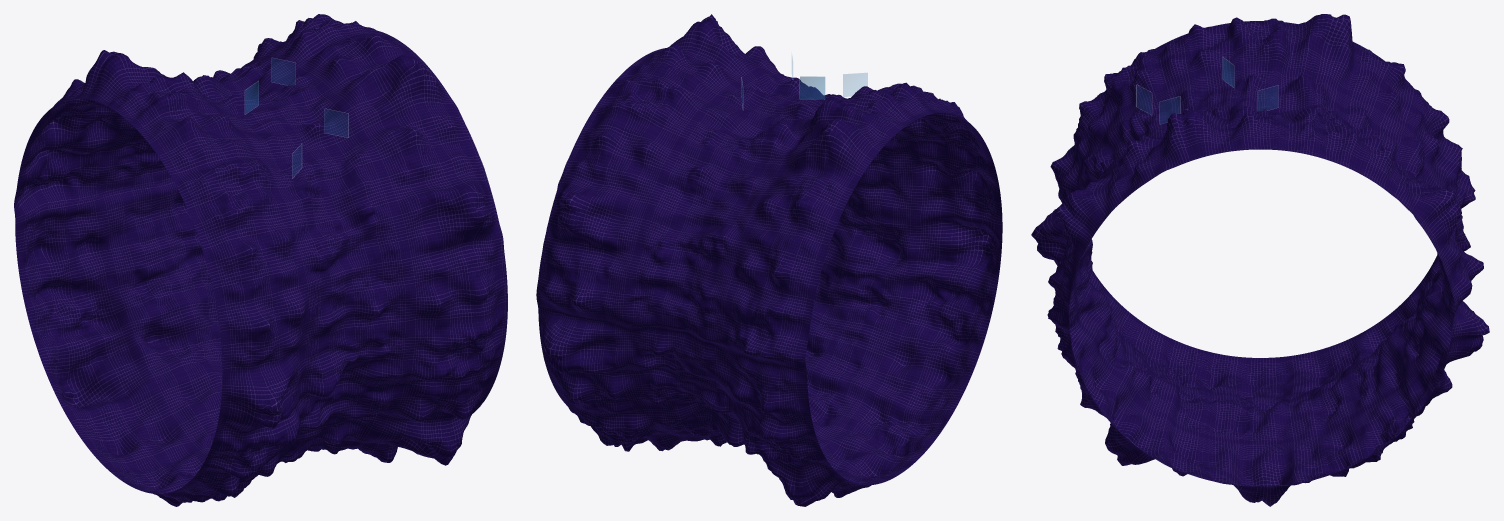
File: mountains emission (2).glb
The picture shows the model from 3 angles, left to right: view 1: azimuth 30°, elevation 25°; view 2: azimuth 150°, elevation 25°; view 3: azimuth 270°, elevation 25°; orthographic projection. The views are drawn at different scales.
Visible parts, largest first — view 1: mountains, pl 3, pl 2; view 2: mountains, pl; view 3: mountains.
Part boxes in pixels (x1,y1,x2,y2): mountains: (14,14,507,506); pl 3: (324,109,348,137); pl 2: (271,58,295,85); mountains: (536,14,1002,506); pl: (800,76,824,99); mountains: (1031,14,1489,506).
Bounding box in the file's own units: 24.36 × 34.69 × 36.63.
Materials: 9 (5 with a texture image).
